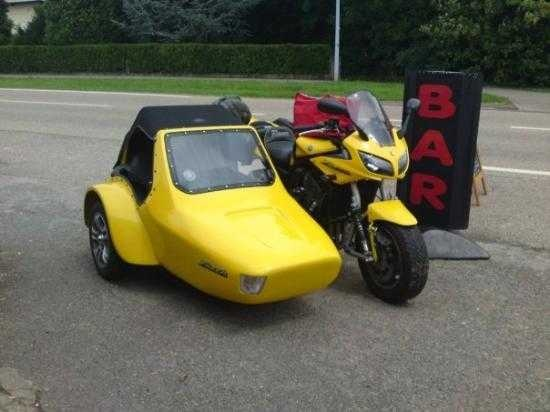motorcycle: (79, 91, 432, 305)
